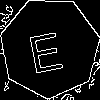E: (24, 22, 65, 74)
